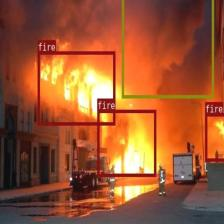fire: (38, 50, 115, 124), (97, 110, 156, 176), (204, 113, 224, 160)
smoke: (121, 0, 213, 97)
